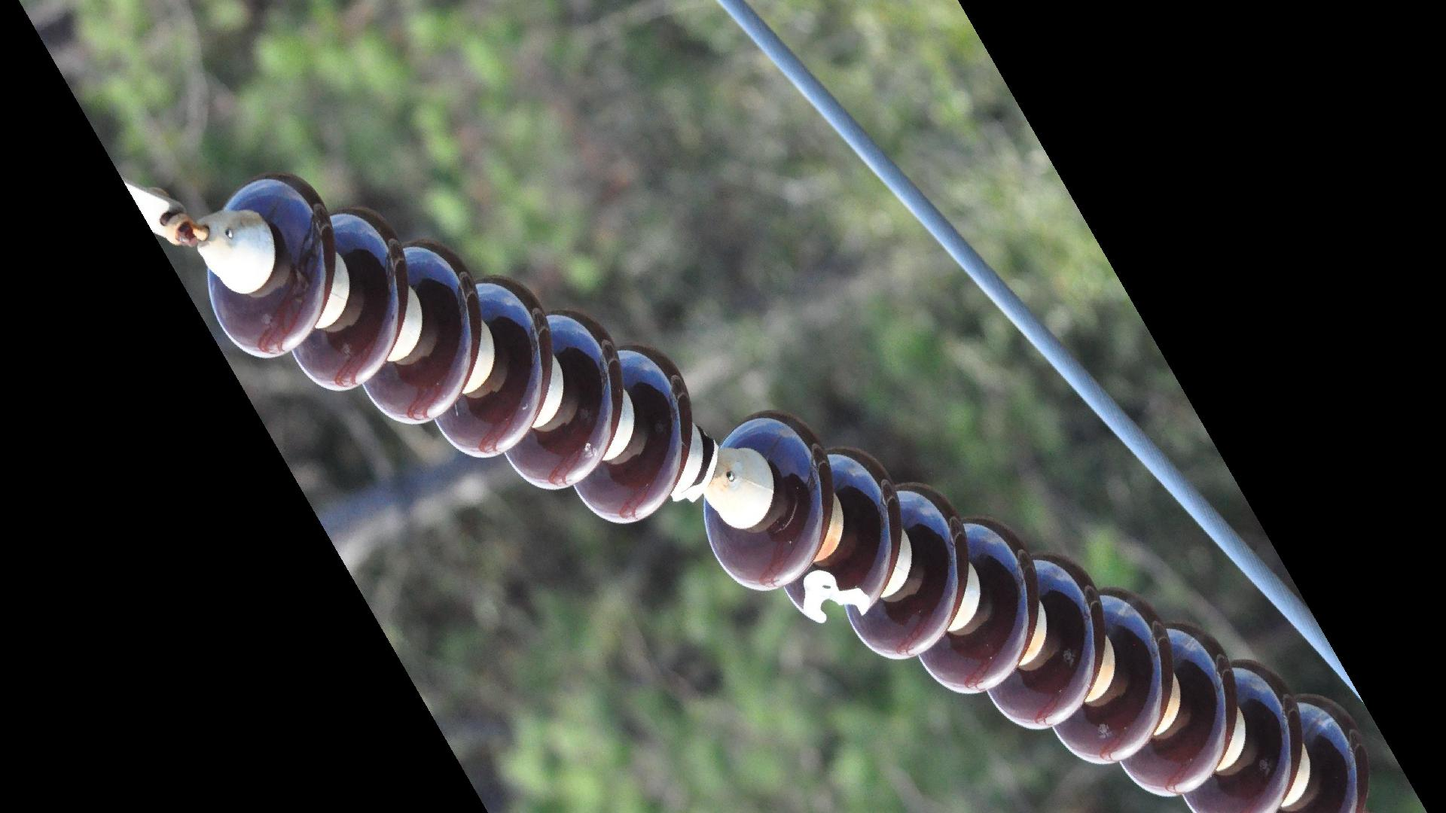insulator: (696, 405, 1380, 813), (201, 165, 701, 534)
insulator_breakage: (788, 560, 883, 632)
